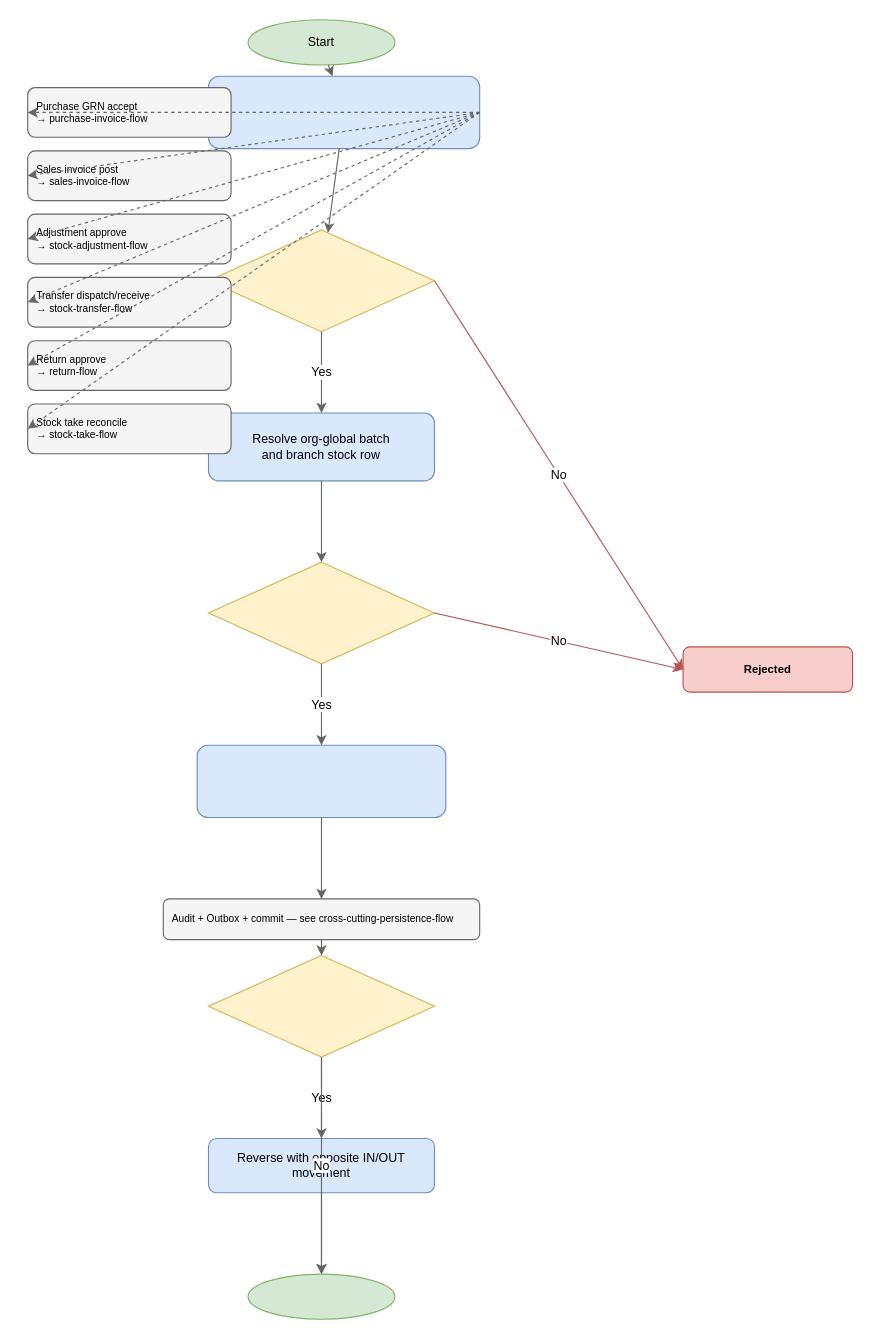
Image size: 872x1339. Some labels were removed from this diagram. The shapes that lost their labels are listed below. From the top down, each one's centre as x and y in pixels, then its label:
At [343,112]: "What triggered the change? GRN / Sale / Return / Adj / Transfer / Stock take".
At [320,280]: "User and branch context set?".
At [320,612]: "Business rules OK? (expiry, FEFO, qty)".
At [321,781]: "applyMovement: update Stock balance and insert immutable StockMovement".
At [320,1005]: "Cancel posted document?".
At [321,1296]: "End".
